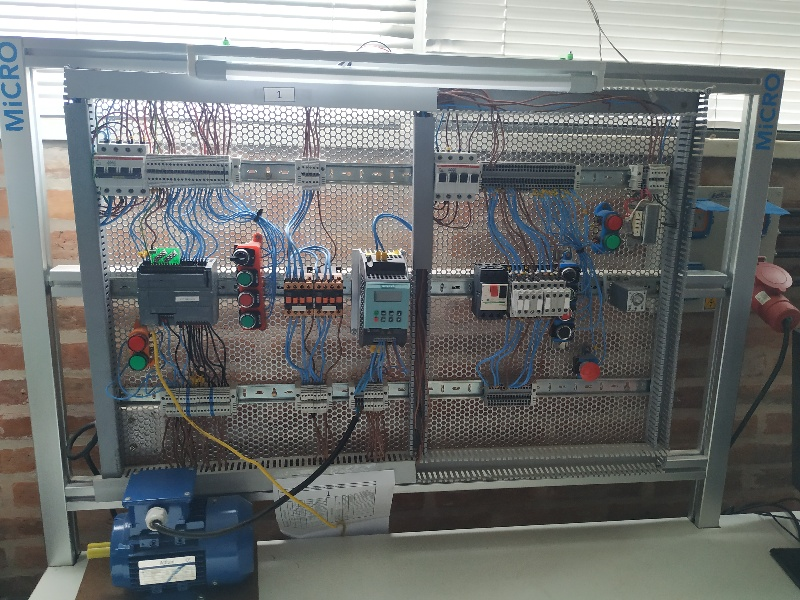Tablero 1: (86, 90, 688, 485)
